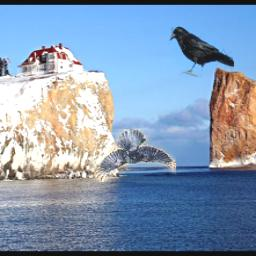Crow: (95, 130, 177, 183), (169, 25, 235, 77)
